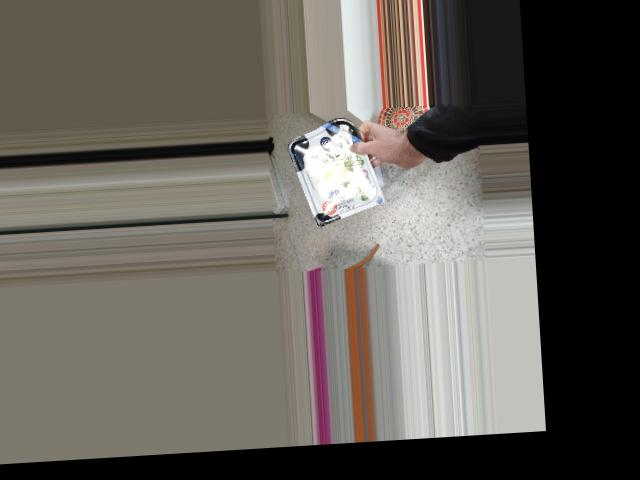cheese: (296, 122, 368, 215)
